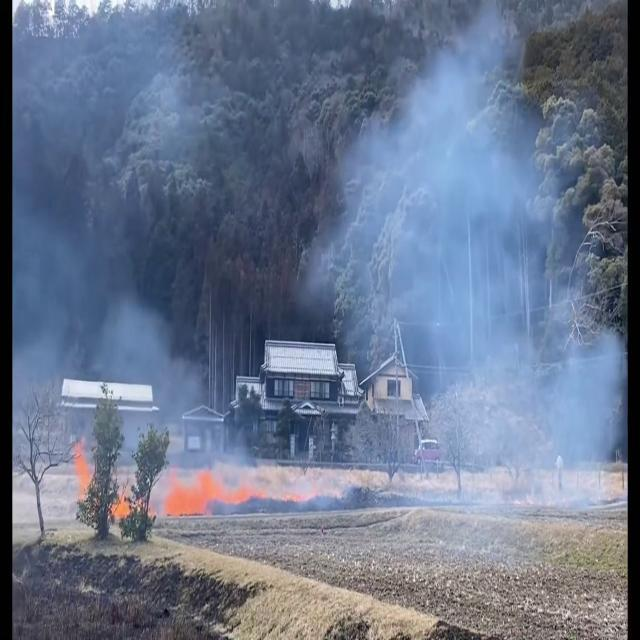Fire: (161, 461, 244, 523), (69, 427, 97, 511)
Smoke: (325, 2, 625, 582), (0, 187, 251, 527)
